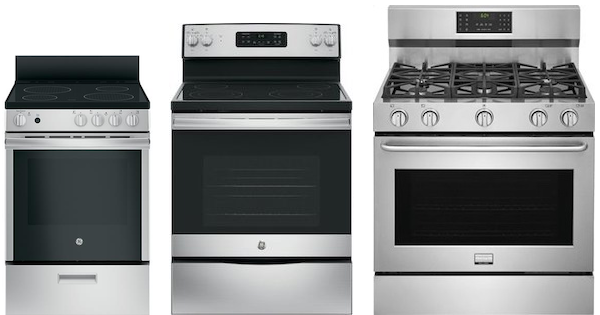stove: (162, 17, 360, 315)
